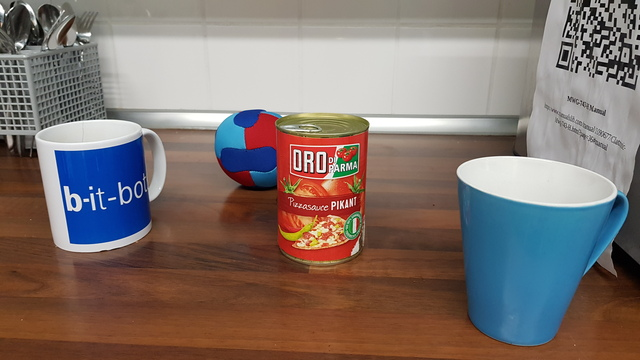005_tomato_soup_can: (273, 111, 369, 268)
025_mug: (452, 154, 630, 347), (32, 119, 168, 254)
057_racquetball: (213, 108, 287, 188)
